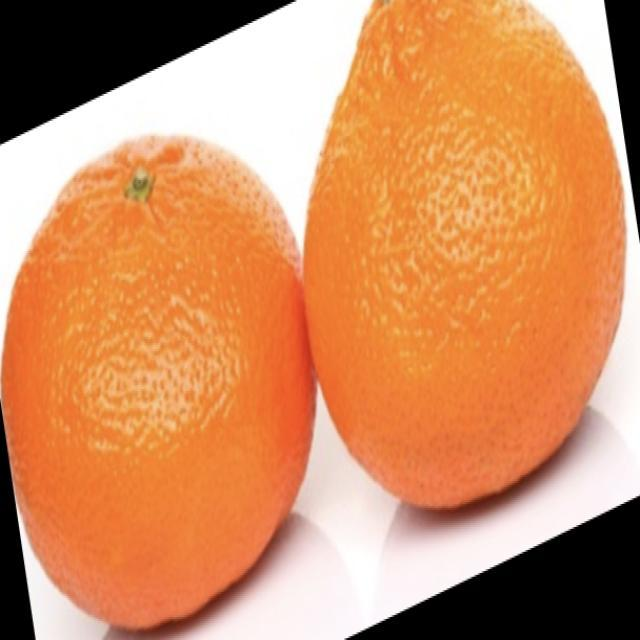matang: (305, 0, 623, 508), (3, 136, 314, 629)
